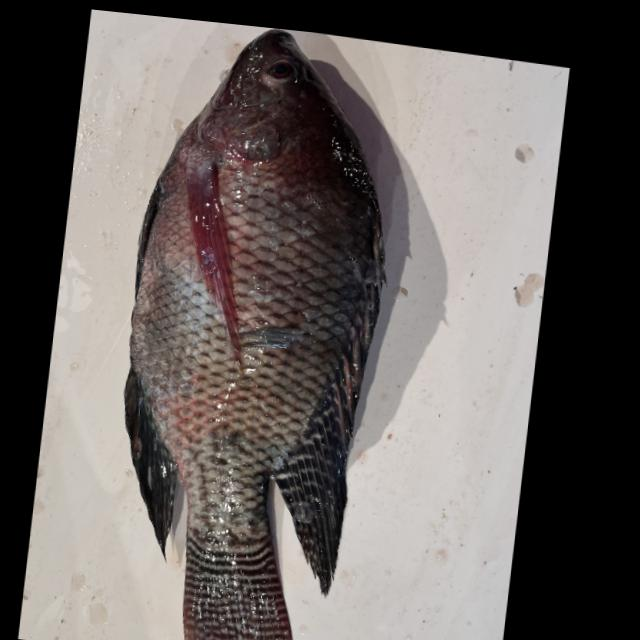Tilapia: (89, 15, 410, 640)
